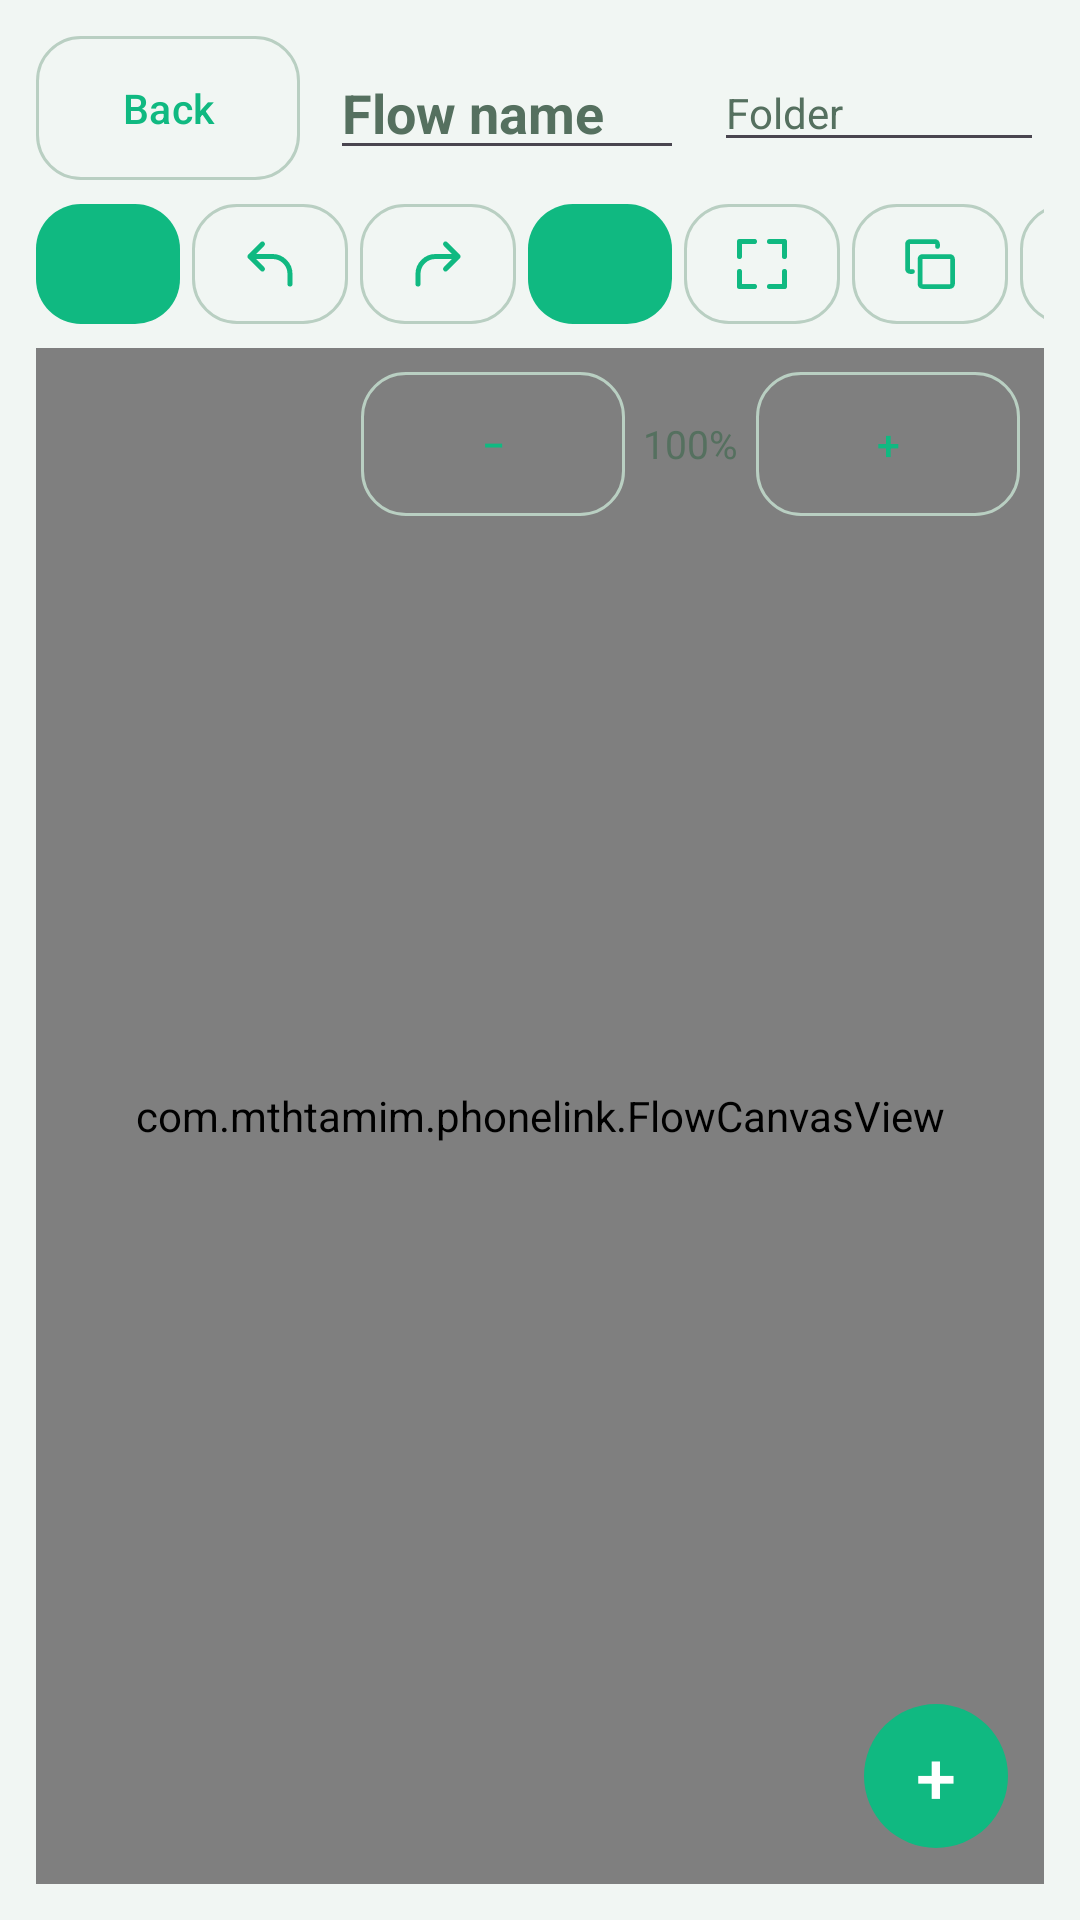

Locate icon controls on the screen. Image size 1080×1920, boxes as [x1, y1, x2, y2].
redo: [360, 204, 516, 324]
reset view: [684, 204, 840, 324]
undo: [192, 204, 348, 324]
